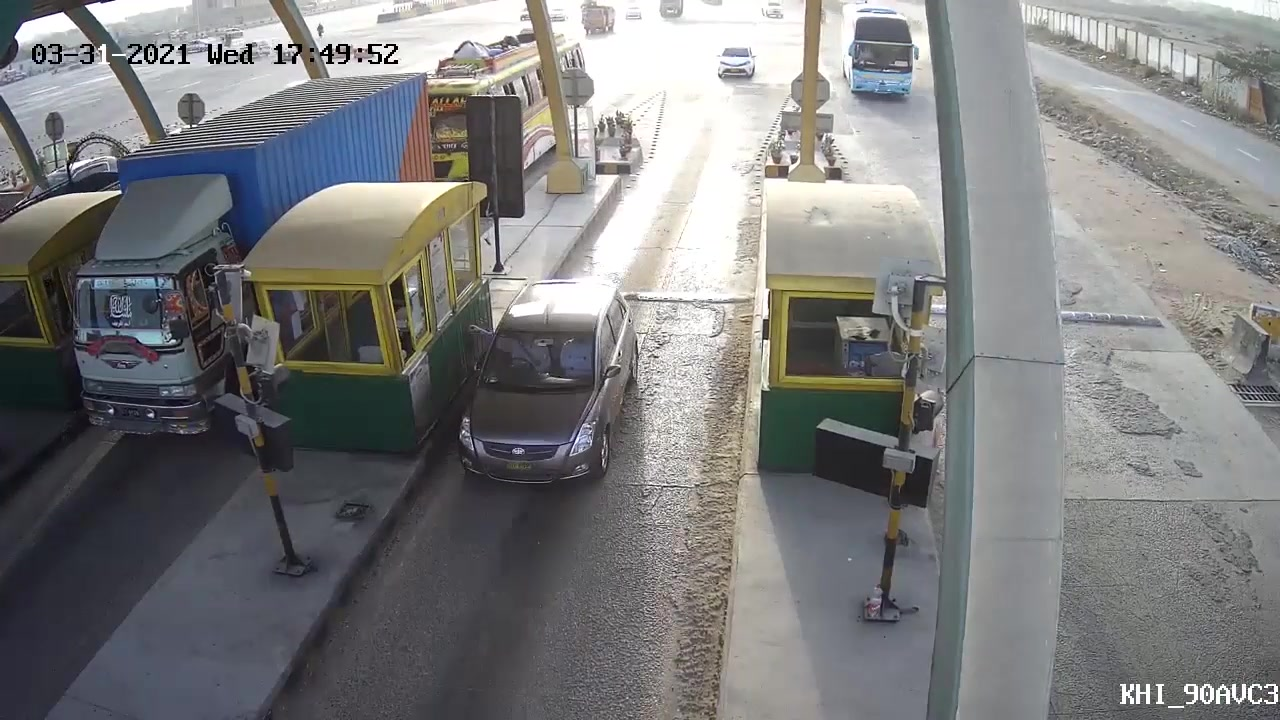F1: (456, 273, 651, 508)
